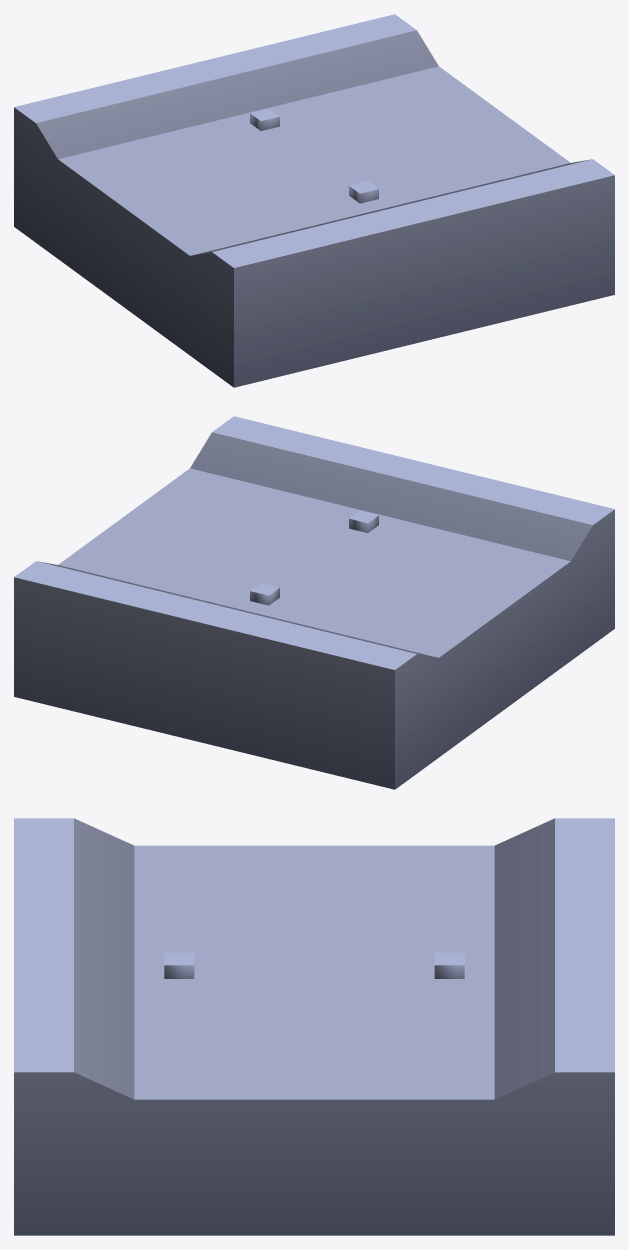
File: floor-panel-straight.obj
3 views of the same model, one above another, from view 1: azimuth 30°, elevation 25°; view 2: azimuth 150°, elevation 25°; view 3: azimuth 270°, elevation 25° (orthographic). The views are drawn at different scales.
Parts seen in each view (by area): view 1: floor-panel-straight; view 2: floor-panel-straight; view 3: floor-panel-straight.
Part boxes in pixels (x1,y1,x2,y2): floor-panel-straight: (14, 14, 614, 387); floor-panel-straight: (14, 416, 614, 789); floor-panel-straight: (14, 818, 614, 1235).
Bounding box in the file's own units: 1 × 0.3 × 1.
Materials: 1 (1 with a texture image).
